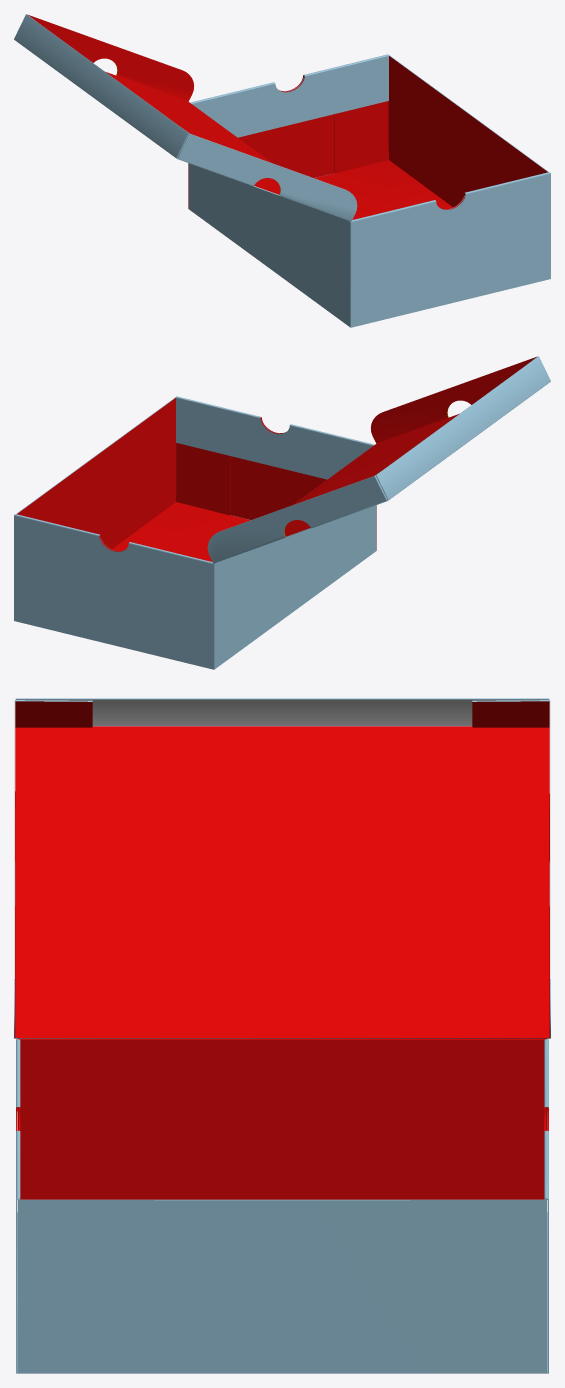
The model's file is nike-shoebox-animation-04.glb.
The picture shows the model from 3 angles, top to bottom: view 1: azimuth 30°, elevation 25°; view 2: azimuth 150°, elevation 25°; view 3: azimuth 270°, elevation 25°; orthographic projection. The views are drawn at different scales.
Parts seen in each view (by area): view 1: Box.001, BoxLid.001; view 2: Box.001, BoxLid.001; view 3: BoxLid.001, Box.001.
Boxes of the visible parts, x1,y1,x2,y2 form: Box.001: (188, 54, 550, 327); BoxLid.001: (14, 14, 357, 221); Box.001: (14, 396, 376, 669); BoxLid.001: (207, 356, 550, 563); BoxLid.001: (14, 698, 550, 1038); Box.001: (16, 1038, 548, 1373).
Size of the model in its own units: 0.4237 by 0.2534 by 0.3203.
2 materials, 1 textured.
